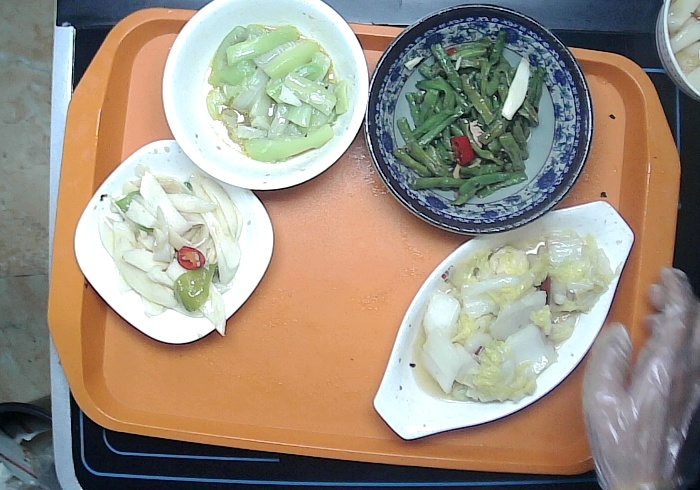ZNLD-Qing_Hua_Wan: (360, 1, 605, 248)
ZNLD-Si_Fang_Wan: (65, 131, 285, 350)
ZNLD-Tang_Wan: (160, 1, 386, 200)
ZNLD-Yu_Pan: (368, 193, 636, 443)
